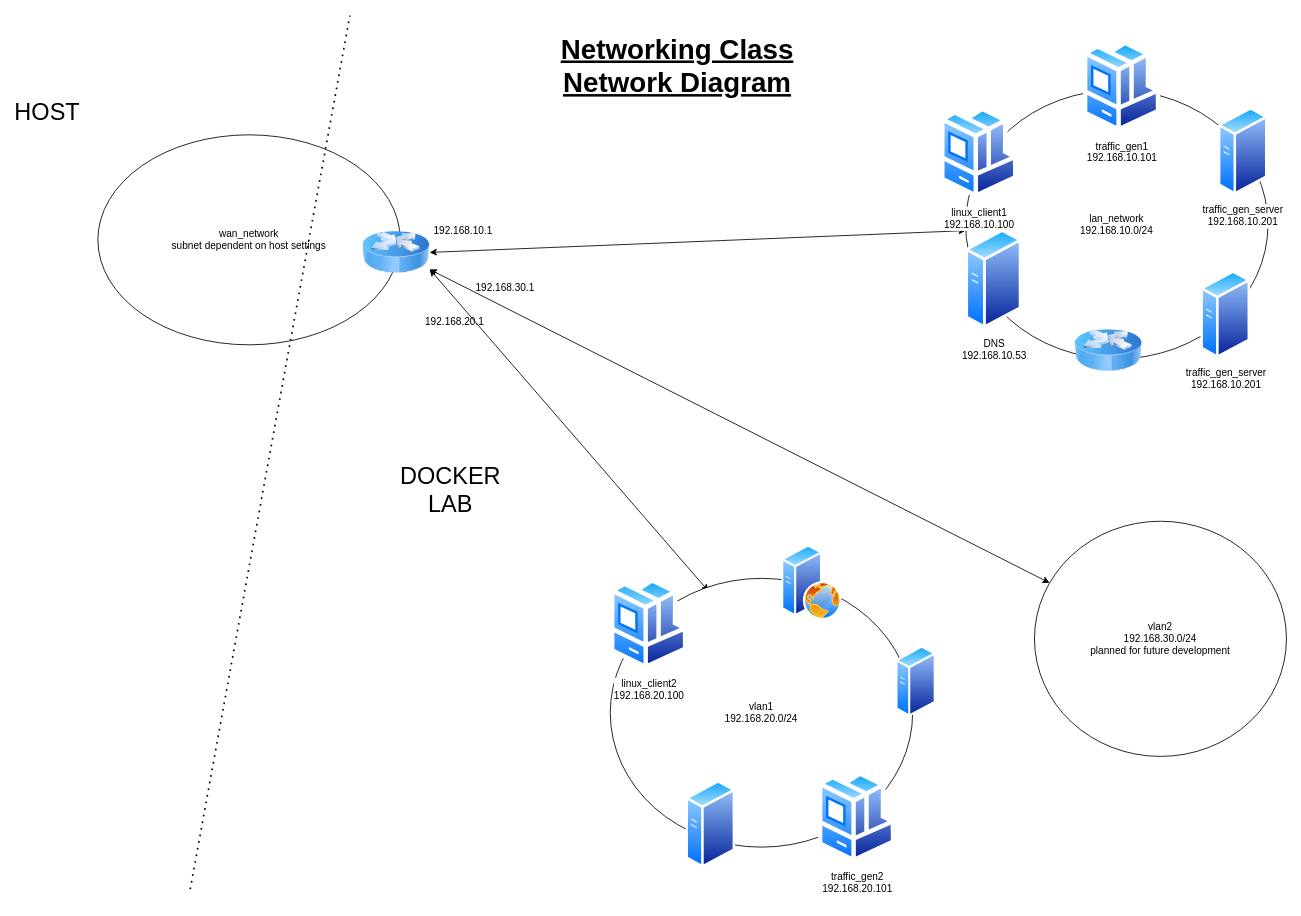
Image size: 1301x916. Some labels were removed from this diagram. The shapes that lost their labels are listed below. From the top down, each one's centre as x and y in pixels, then its label:
point (395, 252): router
point (1108, 350): unauthorized_device
point (811, 582): linux_server Services: DNS (dnsmasq) 192.168.20.5
point (915, 681): syslog 192.168.20.250
point (710, 824): traffic_gen_server 192.168.20.250
